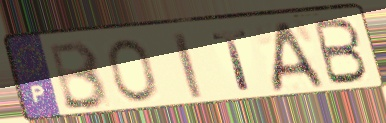A: (270, 19, 328, 95)
B: (47, 38, 111, 112), (311, 17, 371, 88)
I: (169, 29, 206, 102)
O: (106, 37, 160, 104)
T: (208, 27, 254, 93)
